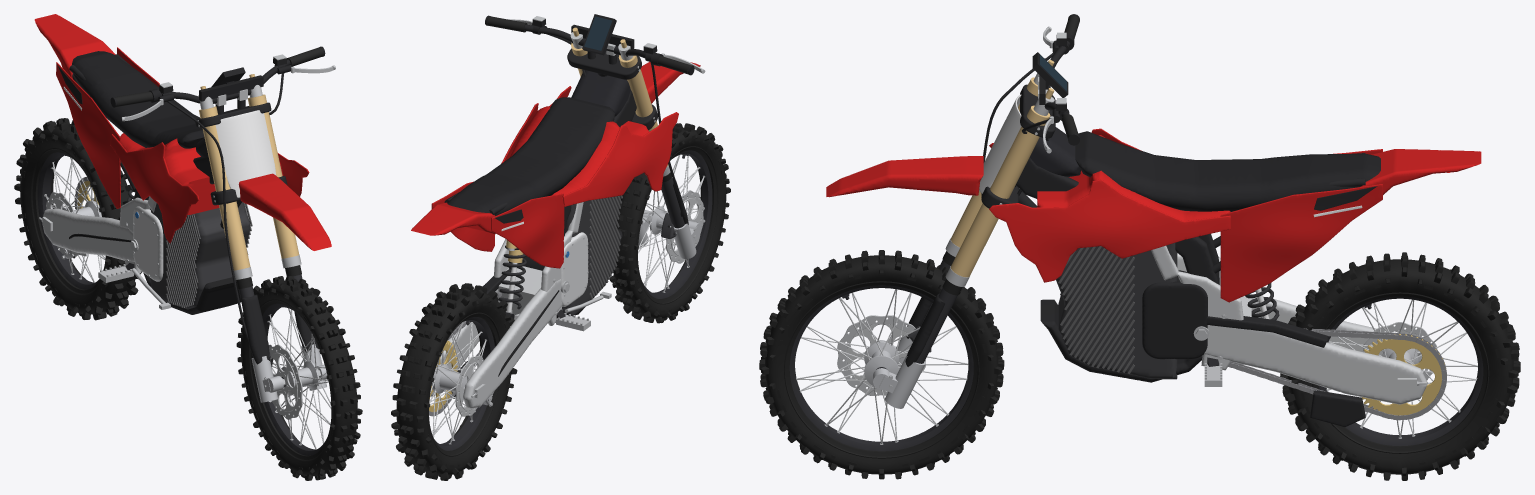
File: Varg.glb
3 views of the same model, side by side, from view 1: azimuth 30°, elevation 25°; view 2: azimuth 150°, elevation 25°; view 3: azimuth 270°, elevation 25° (orthographic). The views are drawn at different scales.
Parts seen in each view (by area): view 1: Varg_FrontWheel_rubber, Varg_RearWheel_rubber, Varg_Body_seat, Varg_Body_red3, Varg_Body_red, Varg_Steering_black, Varg_Body_battery, Varg_Steering_gold, Varg_Steering_plate, Varg_Swingarm_alu, Varg_Steering_red, Varg_Body_battrib (+18 smaller); view 2: Varg_RearWheel_rubber, Varg_Body_seat, Varg_FrontWheel_rubber, Varg_Swingarm_alu, Varg_Body_red3, Varg_Body_red, Varg_Body_red2, Varg_Body_battrib, Varg_Body_battery, Varg_Steering_frame, Varg_Steering_black, Varg_FrontWheel_rim (+21 smaller); view 3: Varg_RearWheel_rubber, Varg_FrontWheel_rubber, Varg_Body_seat, Varg_Body_red2, Varg_Body_red, Varg_Swingarm_alu, Varg_Body_battery, Varg_Body_black, Varg_Body_battrib, Varg_Steering_red, Varg_Steering_gold, Varg_FrontWheel_spoke (+16 smaller).
Part boxes in pixels (x1,y1,x2,y2): Varg_FrontWheel_rubber: [236, 276, 362, 480]; Varg_RearWheel_rubber: [14, 118, 141, 320]; Varg_Body_seat: [72, 51, 204, 148]; Varg_Body_red3: [34, 14, 120, 208]; Varg_Body_red: [110, 134, 309, 243]; Varg_Steering_black: [110, 46, 325, 364]; Varg_Body_battery: [150, 202, 250, 309]; Varg_Steering_gold: [199, 74, 299, 270]; Varg_Steering_plate: [215, 110, 276, 197]; Varg_Swingarm_alu: [42, 198, 134, 261]; Varg_Steering_red: [238, 173, 331, 250]; Varg_Body_battrib: [165, 203, 252, 308]; Varg_RearWheel_rubber: [391, 283, 517, 480]; Varg_Body_seat: [447, 97, 614, 215]; Varg_FrontWheel_rubber: [609, 123, 730, 323]; Varg_Swingarm_alu: [430, 266, 562, 408]; Varg_Body_red3: [411, 193, 564, 268]; Varg_Body_red: [501, 86, 678, 206]; Varg_Body_red2: [431, 106, 648, 251]; Varg_Body_battrib: [589, 195, 622, 299]; Varg_Body_battery: [562, 196, 620, 316]; Varg_Steering_frame: [524, 24, 657, 129]; Varg_Steering_black: [485, 14, 694, 224]; Varg_FrontWheel_rim: [642, 150, 712, 298]; Varg_RearWheel_rubber: [1280, 252, 1520, 480]; Varg_FrontWheel_rubber: [759, 250, 1004, 479]; Varg_Body_seat: [1075, 131, 1380, 211]; Varg_Body_red2: [1037, 135, 1382, 302]; Varg_Body_red: [989, 128, 1230, 282]; Varg_Swingarm_alu: [1204, 293, 1427, 404]; Varg_Body_battery: [1056, 243, 1177, 379]; Varg_Body_black: [1040, 186, 1377, 382]; Varg_Body_battrib: [1058, 246, 1134, 373]; Varg_Steering_red: [826, 156, 983, 197]; Varg_Steering_gold: [950, 60, 1054, 277]; Varg_FrontWheel_spoke: [796, 289, 968, 444].
Size of the model in its own units: 0.8302 by 1.32 by 2.17.
